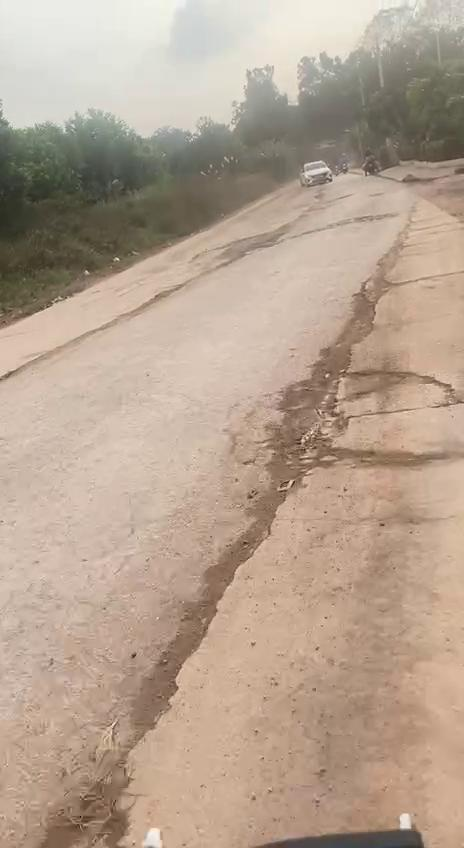pothole: (273, 348, 464, 482)
